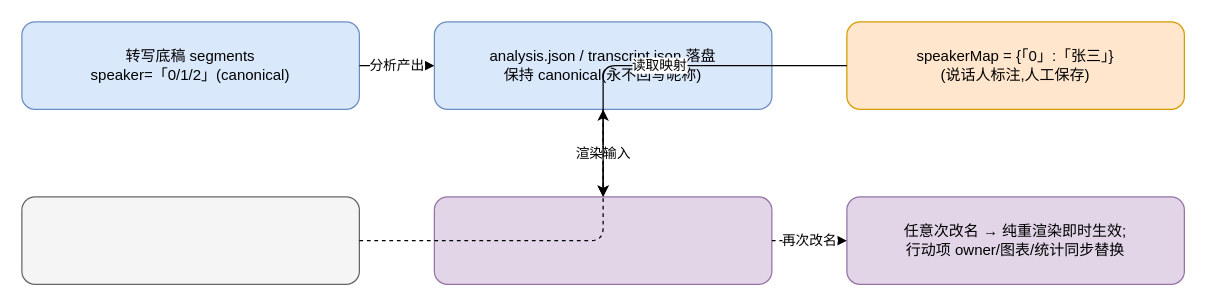
This 1206x306 diagram has some shape labels left out. The box of each missing label's shape, as (x1, y1, x2, y2) in pixels:
渲染:applySpeakerMapDeep (昵称只在 HTML 层生效): (433, 196, 772, 284)
重跑分析:LLM 输入/落盘仍 canonical (改名不固化,零额度/零转写): (21, 196, 359, 284)
